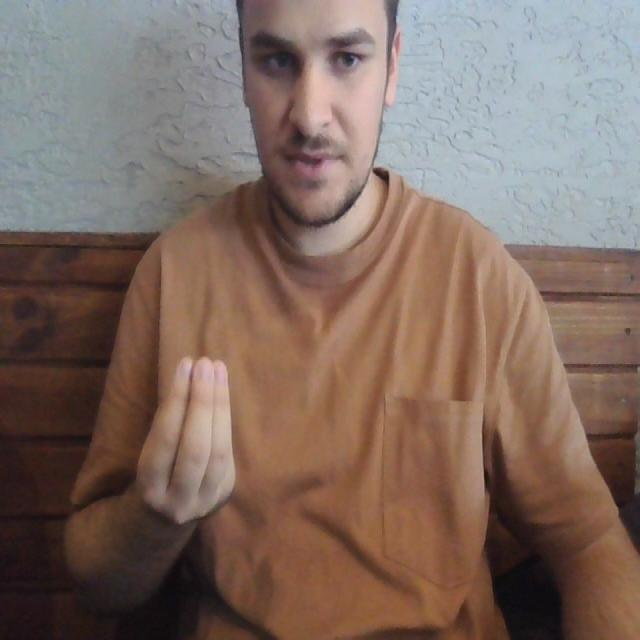iyi: (132, 343, 238, 537)
